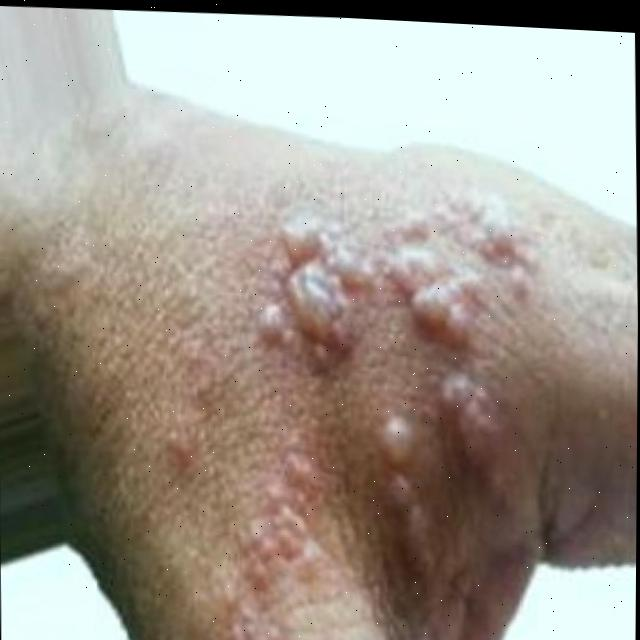Shingles: (140, 173, 539, 640)
